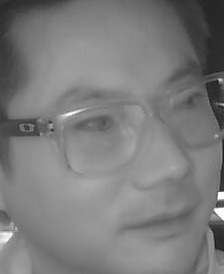glass: (52, 97, 146, 176), (164, 68, 224, 149)
mouth: (123, 197, 198, 242)
